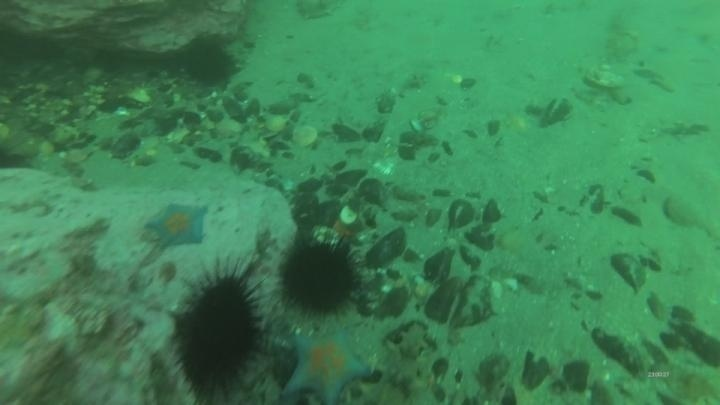echinus: (170, 265, 265, 401), (277, 238, 361, 319), (181, 35, 239, 90)
starfish: (280, 327, 376, 405), (144, 200, 211, 251)
